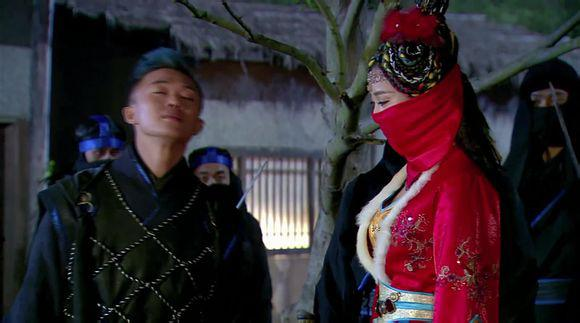NONE: (138, 83, 203, 138), (194, 163, 234, 200)
OK: (372, 83, 431, 142), (529, 91, 570, 135), (87, 144, 124, 179)
